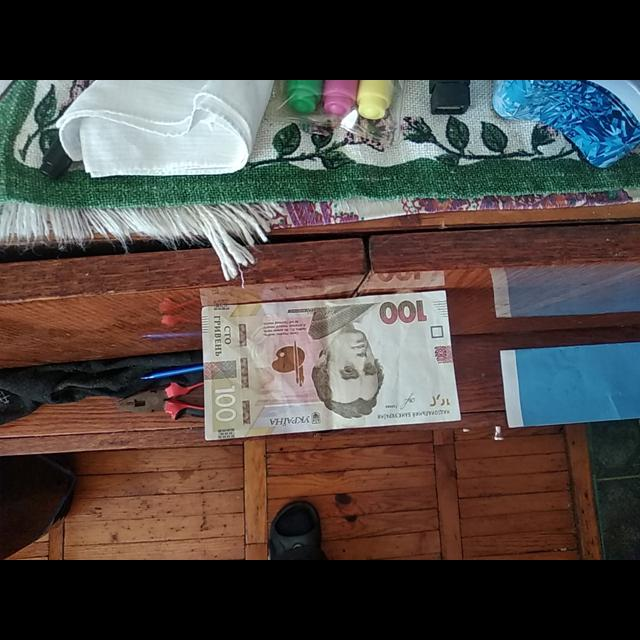100uah: (203, 289, 462, 439)
